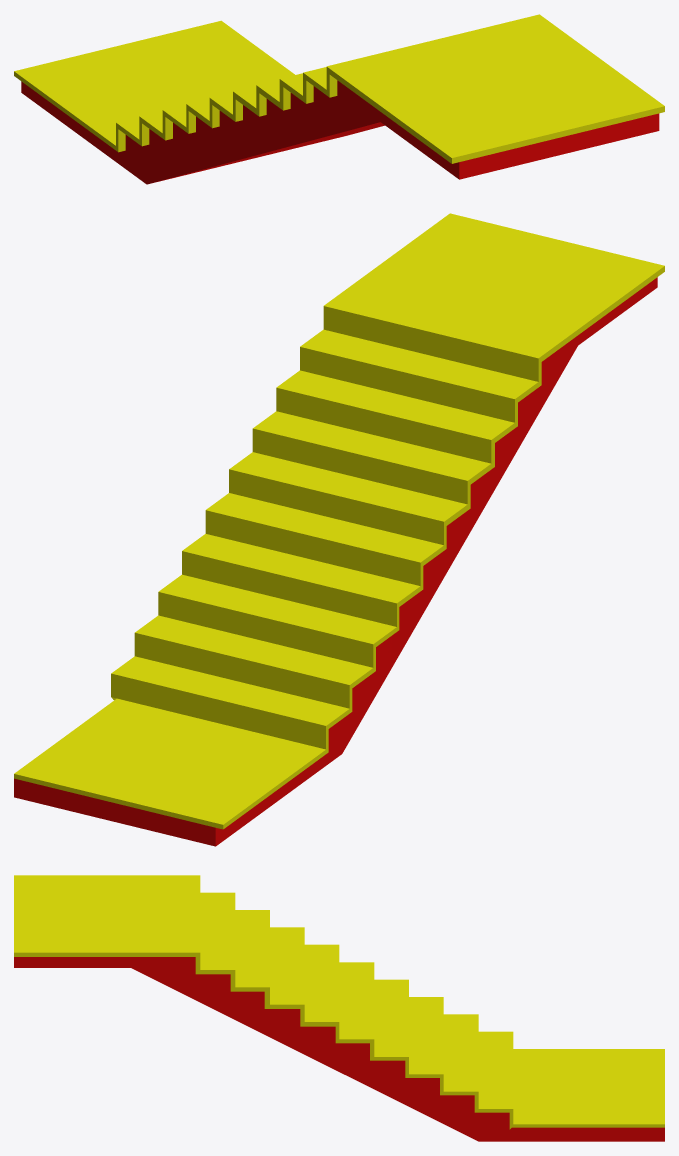
The model's file is Stair.fbx.
The picture shows the model from 3 angles, top to bottom: view 1: azimuth 30°, elevation 25°; view 2: azimuth 150°, elevation 25°; view 3: azimuth 270°, elevation 25°; orthographic projection. The views are drawn at different scales.
Visible parts, largest first — view 1: polySurface14; view 2: polySurface14; view 3: polySurface14.
Boxes of the visible parts, x1,y1,x2,y2 form: polySurface14: (14,14,664,184); polySurface14: (14,213,664,846); polySurface14: (14,875,664,1141).
Size of the model in its own units: 1.57 by 1.8 by 5.57.
